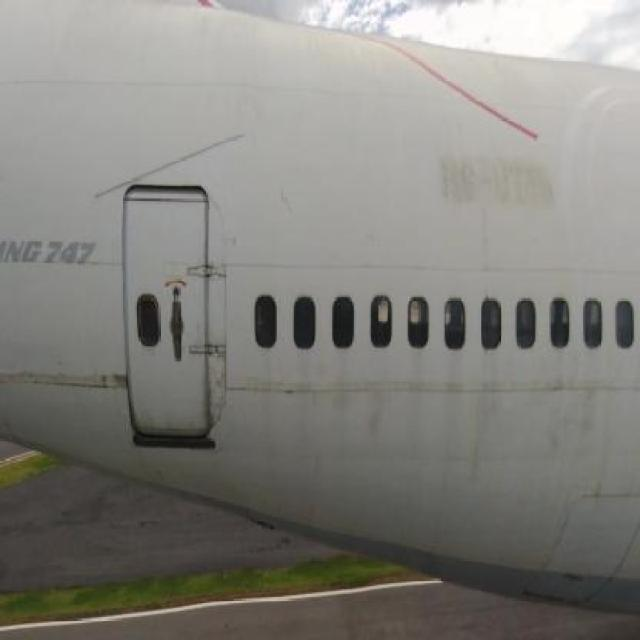Scartch: (543, 375, 620, 482), (463, 379, 497, 486), (268, 169, 306, 246), (360, 378, 397, 449), (200, 354, 234, 428), (99, 356, 130, 404)
